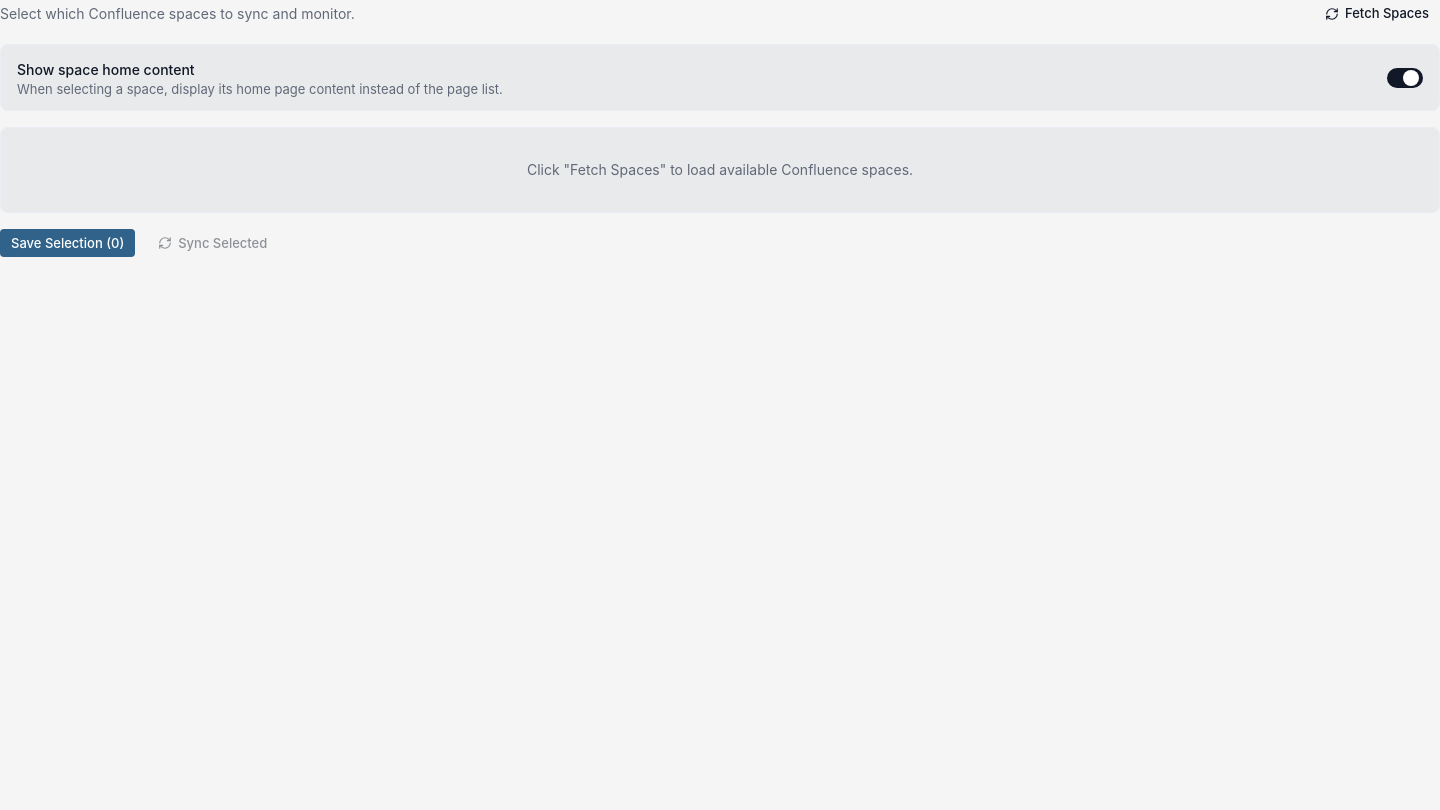
Test: SpacesTab › does not save when the empty-selection dialog is cancelled
The image size is (1440, 810).
Click the button "Save Selection (0)".
click(68, 243)  # box [0,229,135,257]
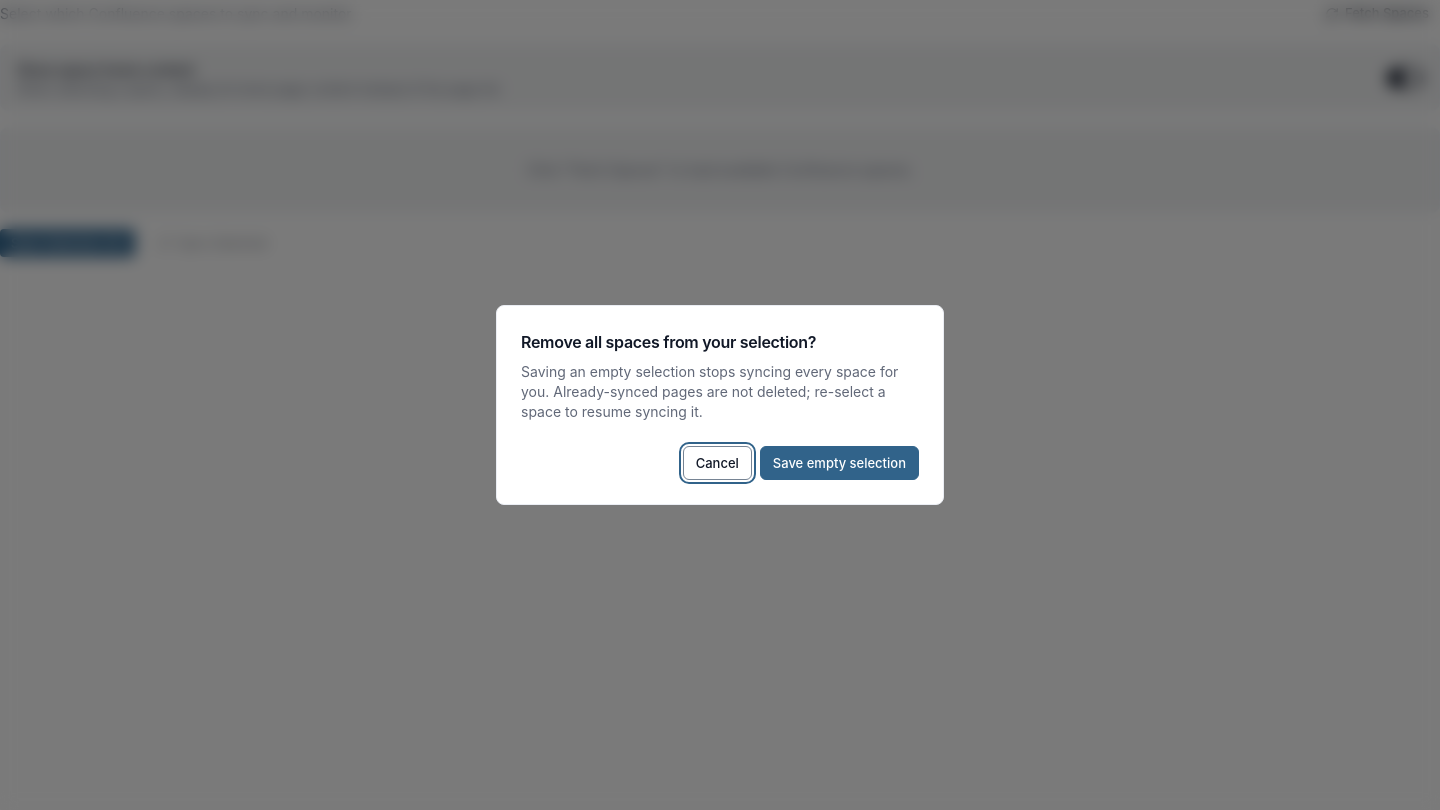
Now the dialog with test id "confirm-dialog" is shown, box [496,305,944,505]
Click the button with test id "confirm-dialog-cancel".
click(717, 463)  # box [683,446,752,480]
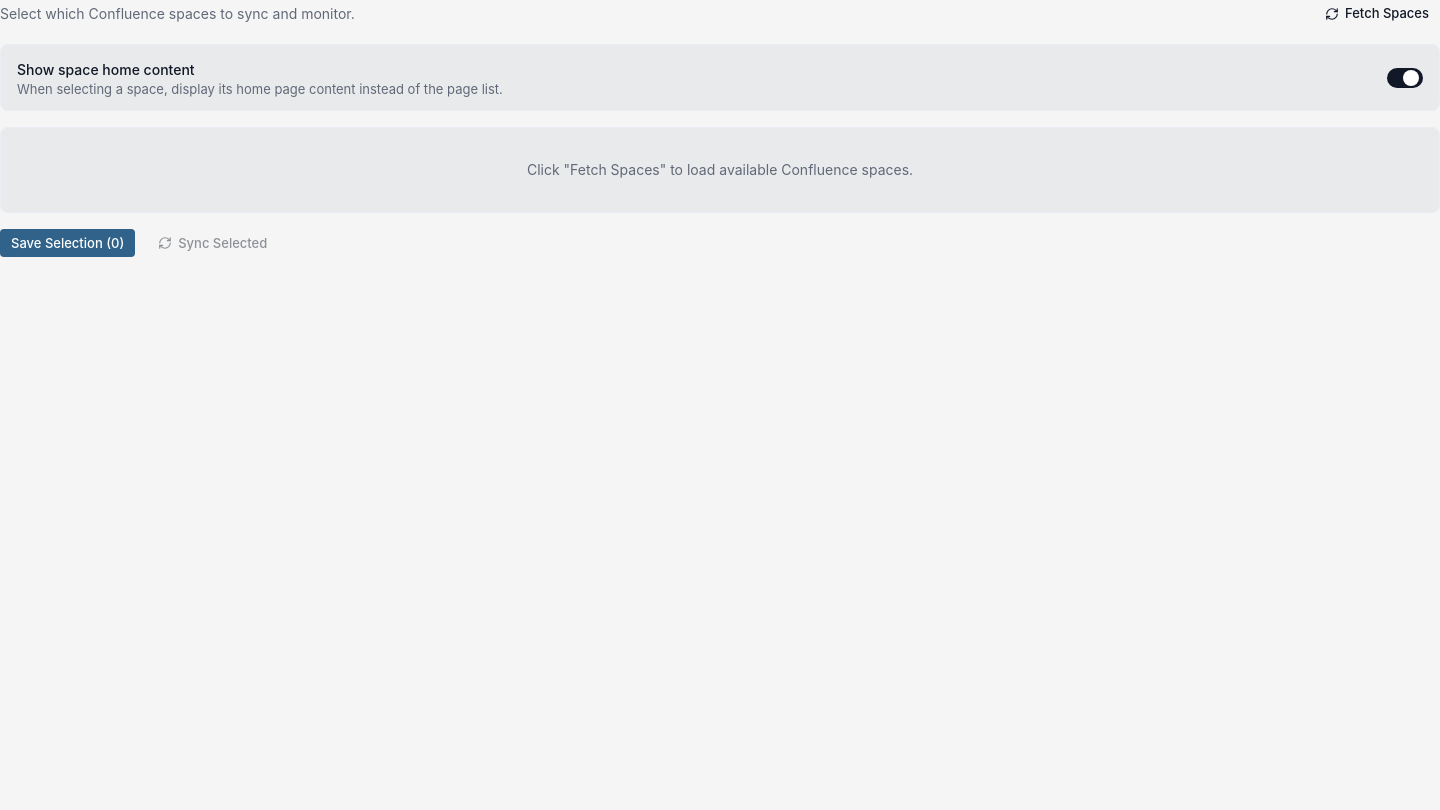
Now the dialog with test id "confirm-dialog" is gone
